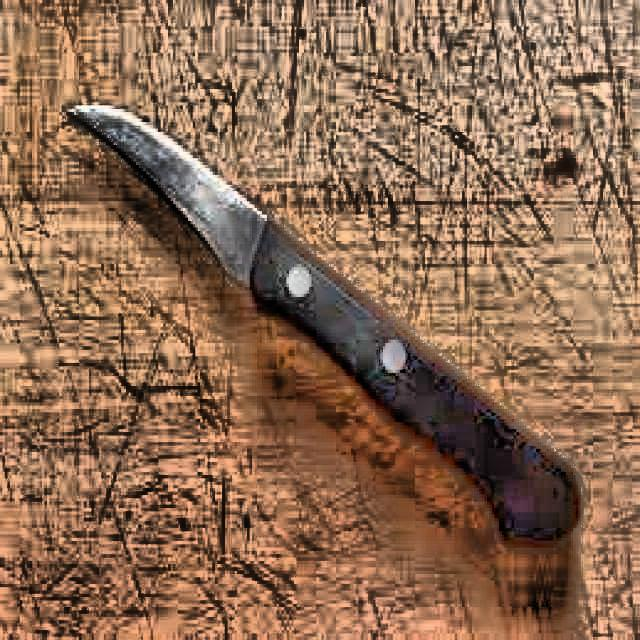knife: (71, 96, 584, 567)
